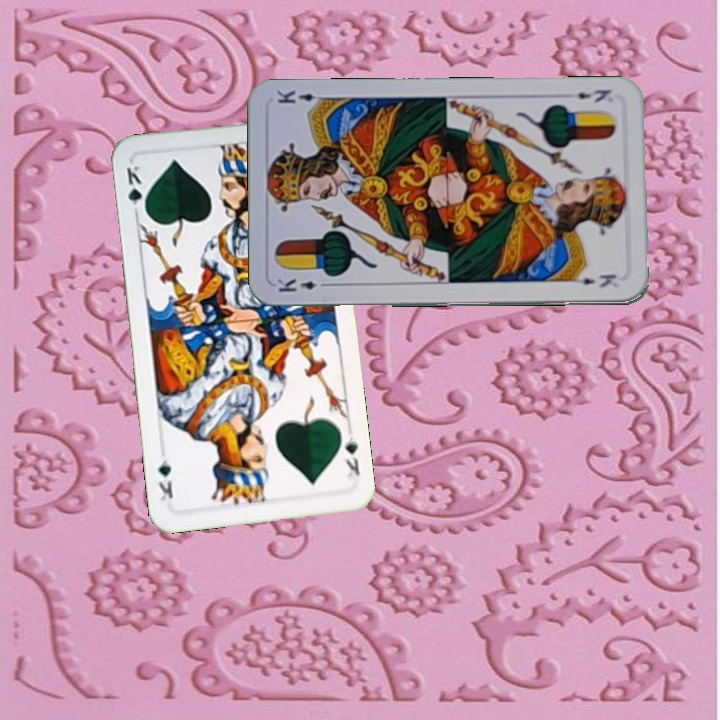EK: (273, 274, 332, 295), (573, 85, 614, 105)
GK: (122, 161, 149, 219), (341, 433, 362, 479)
